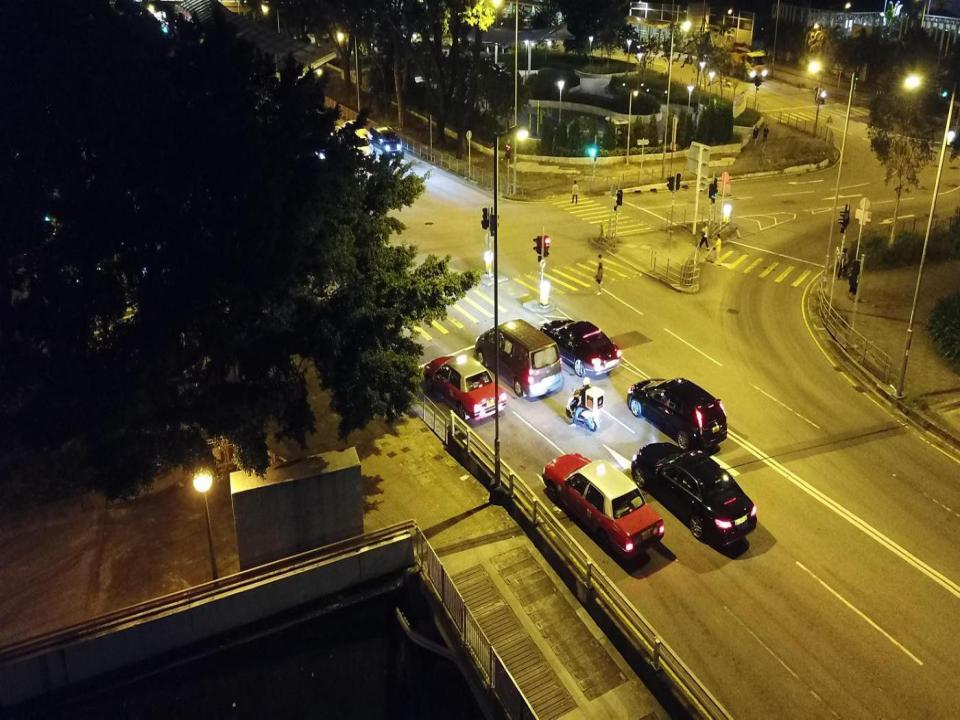car: (631, 442, 758, 548), (542, 452, 664, 556), (627, 378, 728, 452), (422, 353, 508, 421), (539, 319, 623, 377), (337, 127, 374, 161), (341, 119, 370, 143)
truck: (707, 39, 766, 83)
van: (474, 318, 564, 398), (368, 123, 404, 162)
